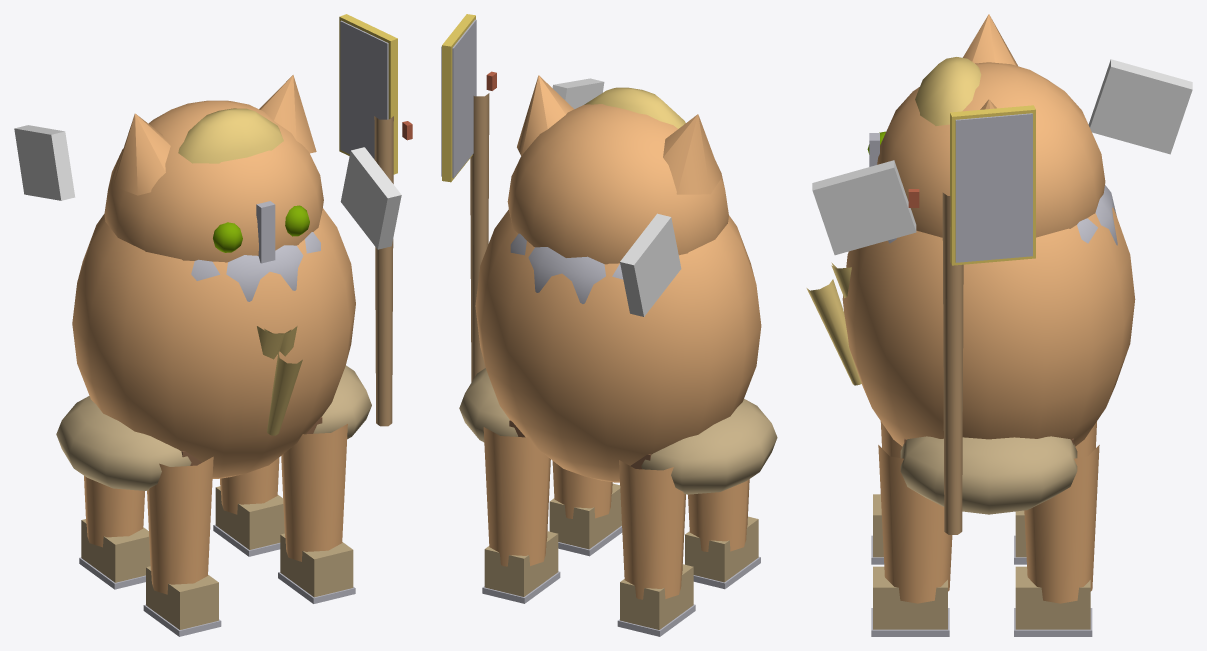
Rendered from cat-viking.glb.
The picture shows the model from 3 angles, left to right: view 1: azimuth 30°, elevation 25°; view 2: azimuth 150°, elevation 25°; view 3: azimuth 270°, elevation 25°; orthographic projection. The views are drawn at different scales.
Visible parts, largest first — view 1: body, head, leg--0.48 (×2), leg-0.48 (×2), cape-l, boot-0.48 (×2), boot--0.48 (×2), axe-head, axe-haft, beard-m, helm-wing-1, helm-wing--1 (+12 smaller); view 2: body, head, leg--0.48 (×2), leg-0.48 (×2), cape-l, boot--0.48 (×2), boot-0.48 (×2), helm-wing--1, axe-haft, axe-head, ear-r, helm (+7 smaller); view 3: body, head, leg-0.48 (×2), axe-head, cape-r, helm-wing-1, helm-wing--1, boot-0.48 (×2), axe-haft, beard-m, axe-trim, beard-c (+4 smaller).
Boxes of the visible parts, x1,y1,x2,y2 form: body: (72,208,355,478); head: (104,100,323,262); leg--0.48 (×2): (84,456,213,594); leg-0.48 (×2): (220,424,347,561); cape-l: (56,396,191,490); boot-0.48 (×2): (215,486,353,597); boot--0.48 (×2): (81,519,218,629); axe-head: (340,20,388,159); axe-haft: (374,116,393,426); beard-m: (178,108,283,163); helm-wing-1: (340,147,401,249); helm-wing--1: (14,125,75,200); body: (475,209,761,482); head: (507,104,728,264); leg--0.48 (×2): (619,460,749,599); leg-0.48 (×2): (483,427,612,566); cape-l: (641,399,777,494); boot--0.48 (×2): (620,516,758,629); boot-0.48 (×2): (484,483,621,596); helm-wing--1: (620,213,681,316); axe-haft: (470,93,489,382); axe-head: (441,19,476,178); ear-r: (663,114,721,194); helm: (510,233,623,303); body: (842,207,1135,446); head: (877,62,1105,237); leg-0.48 (×2): (878,445,1099,603); axe-head: (955,113,1032,262); cape-r: (900,436,1077,514); helm-wing-1: (812,160,916,255); helm-wing--1: (1088,59,1192,154); boot-0.48 (×2): (873,566,1090,629); axe-haft: (942,192,963,534); beard-m: (915,57,981,125); axe-trim: (950,105,1035,265); beard-c: (806,279,861,385).
Size of the model in its own units: 2.24 by 3.48 by 2.17.
